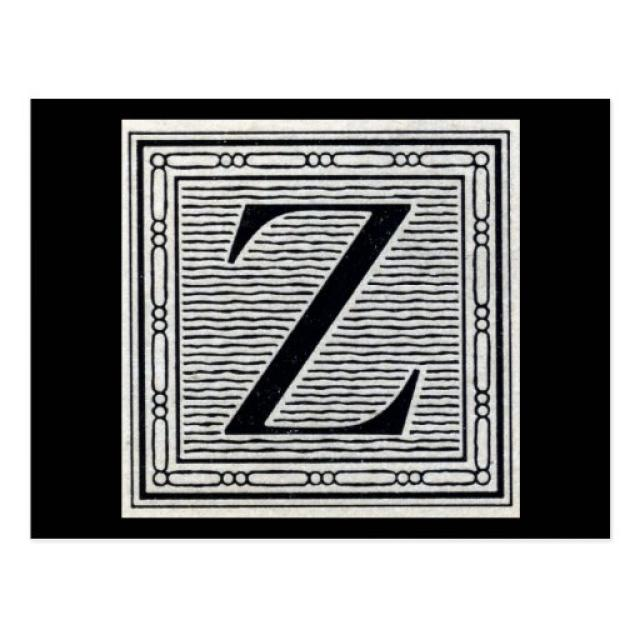Z: (214, 188, 433, 447)
